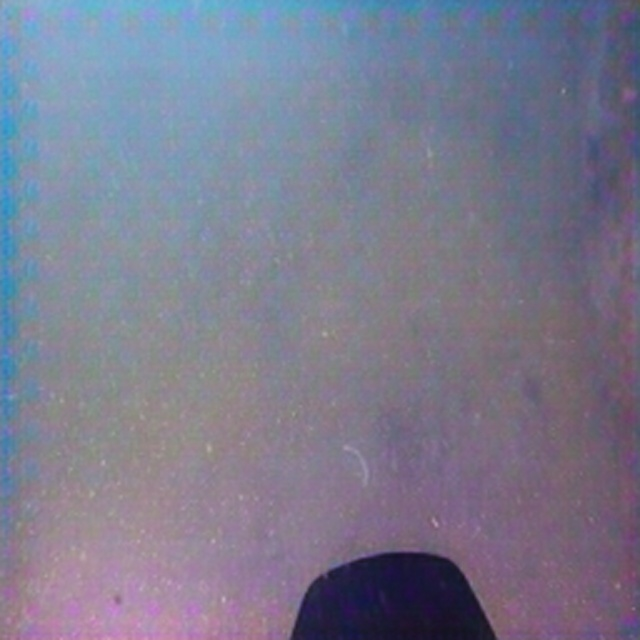mine: (0, 0, 183, 426)
